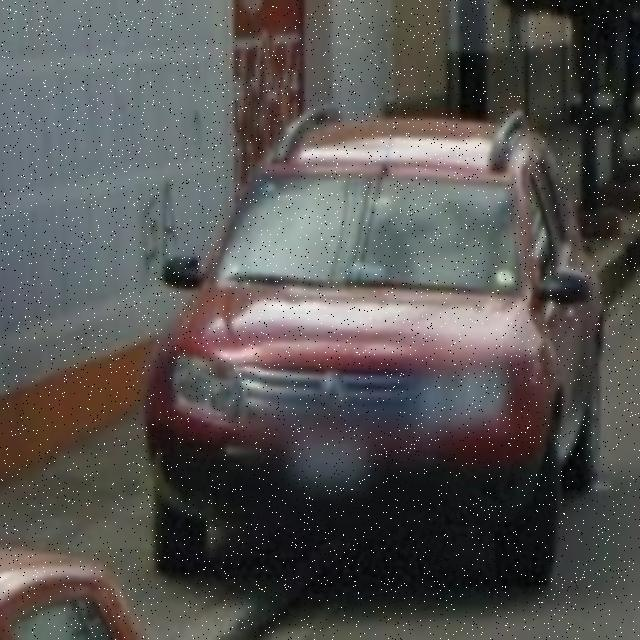cars: (132, 103, 612, 594)
